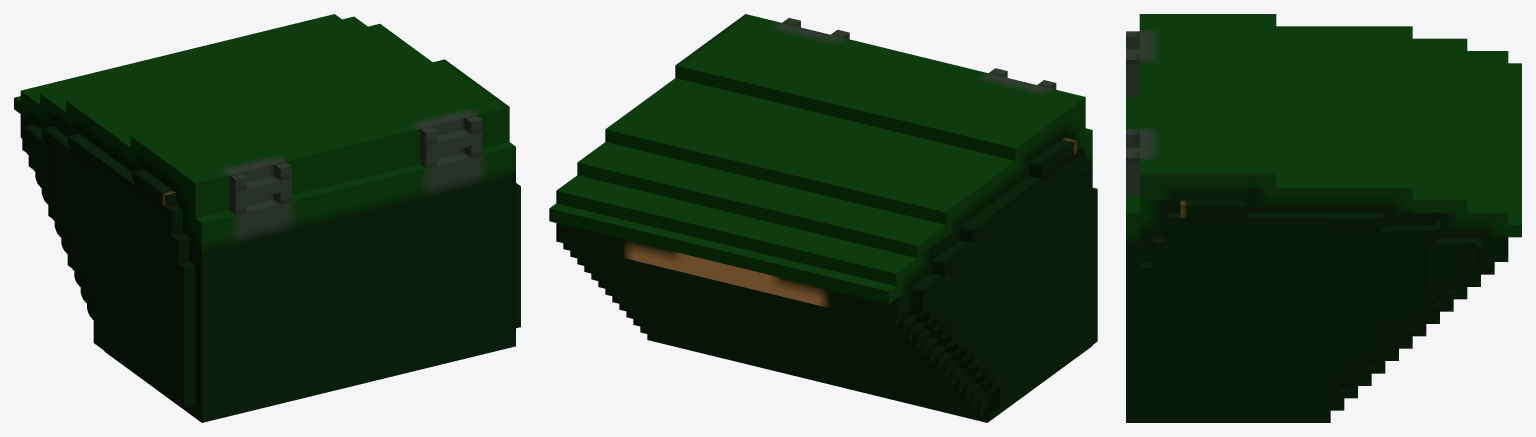
File: big_kosz_na_smieci.dae
3 views of the same model, side by side, from view 1: azimuth 30°, elevation 25°; view 2: azimuth 150°, elevation 25°; view 3: azimuth 270°, elevation 25° (orthographic). The views are drawn at different scales.
Visible parts, largest first — view 1: Content; view 2: Content; view 3: Content.
Boxes of the visible parts, bbox=[...] form: Content: bbox=[14, 14, 520, 422]; Content: bbox=[549, 14, 1097, 422]; Content: bbox=[1126, 14, 1521, 422].
Size of the model in its own units: 30 by 20 by 29.
1 material, 1 textured.
